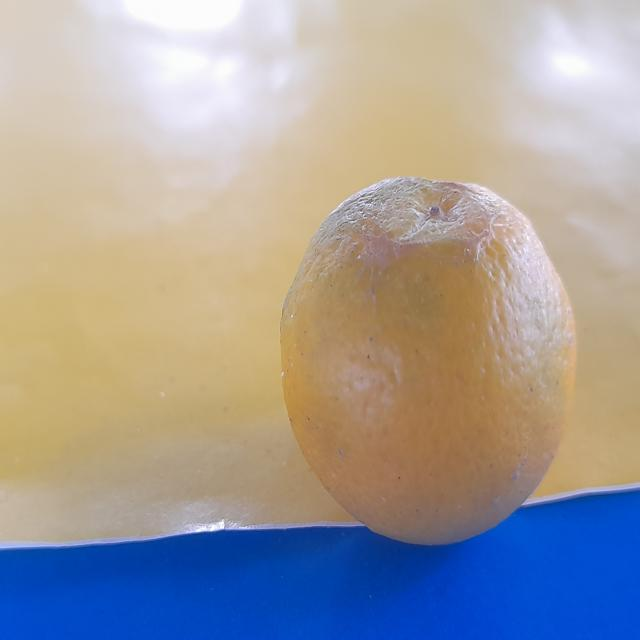greening: (275, 139, 592, 533)
